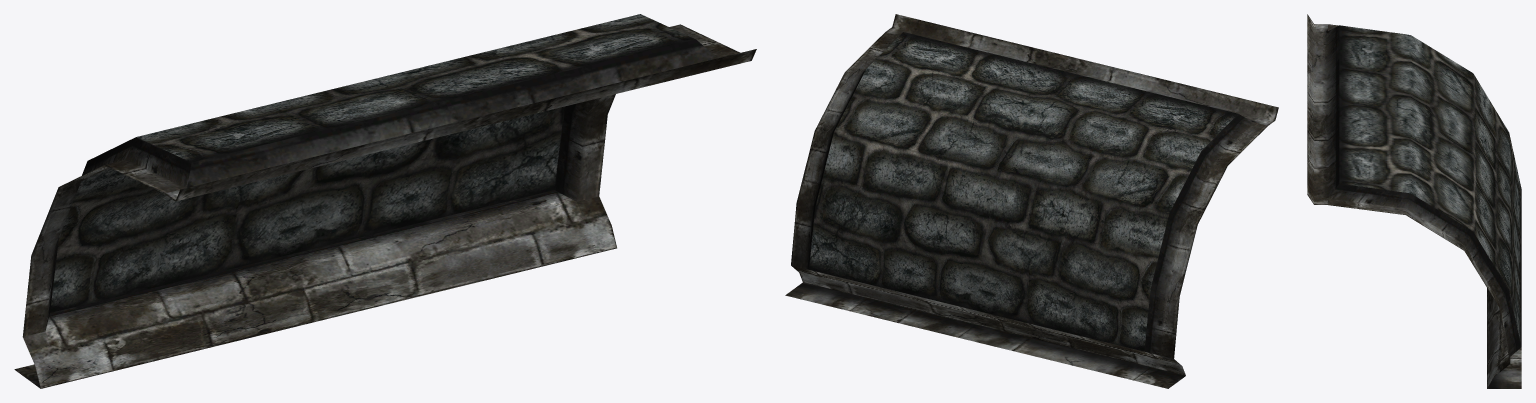
Rendered from concave.dae.
The picture shows the model from 3 angles, left to right: view 1: azimuth 30°, elevation 25°; view 2: azimuth 150°, elevation 25°; view 3: azimuth 270°, elevation 25°; orthographic projection. The views are drawn at different scales.
Visible parts, largest first — view 1: pCube1; view 2: pCube1; view 3: pCube1.
Part boxes in pixels (<box>): pCube1: <box>14,14,756,388</box>; pCube1: <box>785,14,1278,388</box>; pCube1: <box>1307,14,1521,388</box>.
Bounding box in the file's own units: 4 × 2 × 2.
